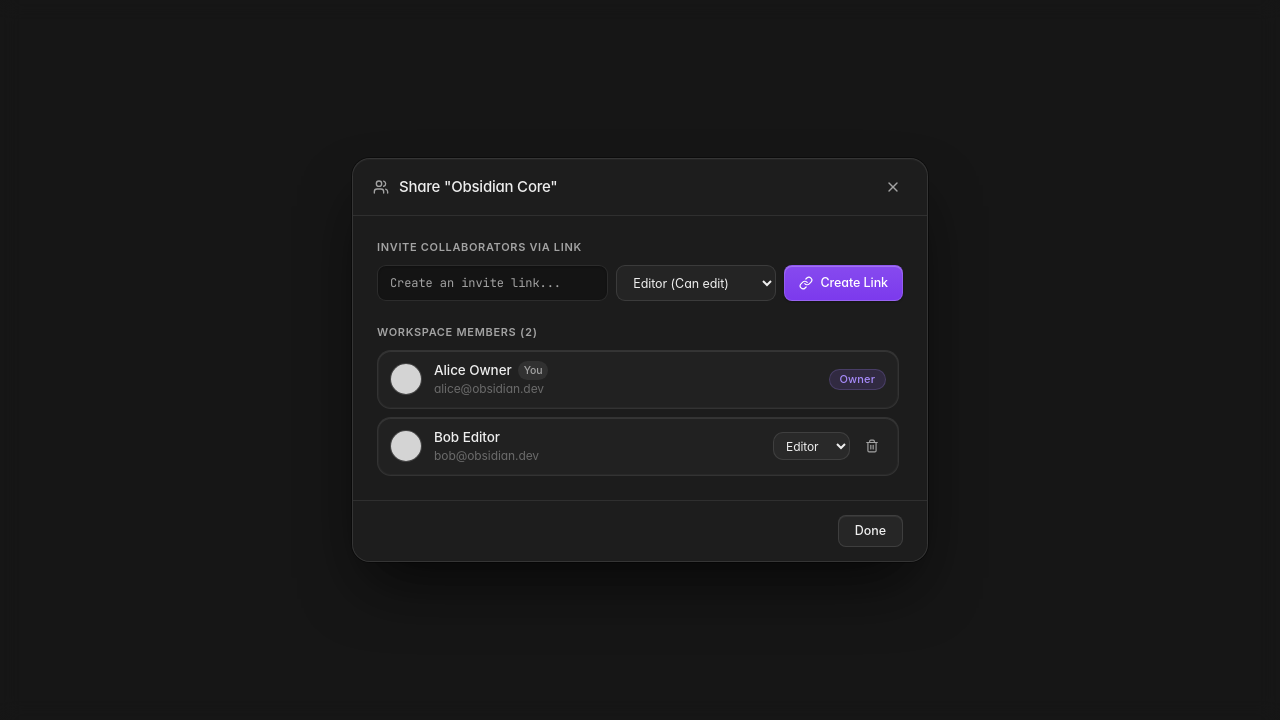
Test case: Workspace Modals & Full WorkspacePage Feature/Button Interactions › ShareModal All Buttons & Member Actions › creates invite link, regenerates on role change, copies to clipboard, updates member role, removes member, and supports non-owner Leave
The width and height of the screenshot is (1280, 720).
Later steps or results of the test are not shown.
Click the button "Create Link": [844, 283] box [784, 265, 903, 301]
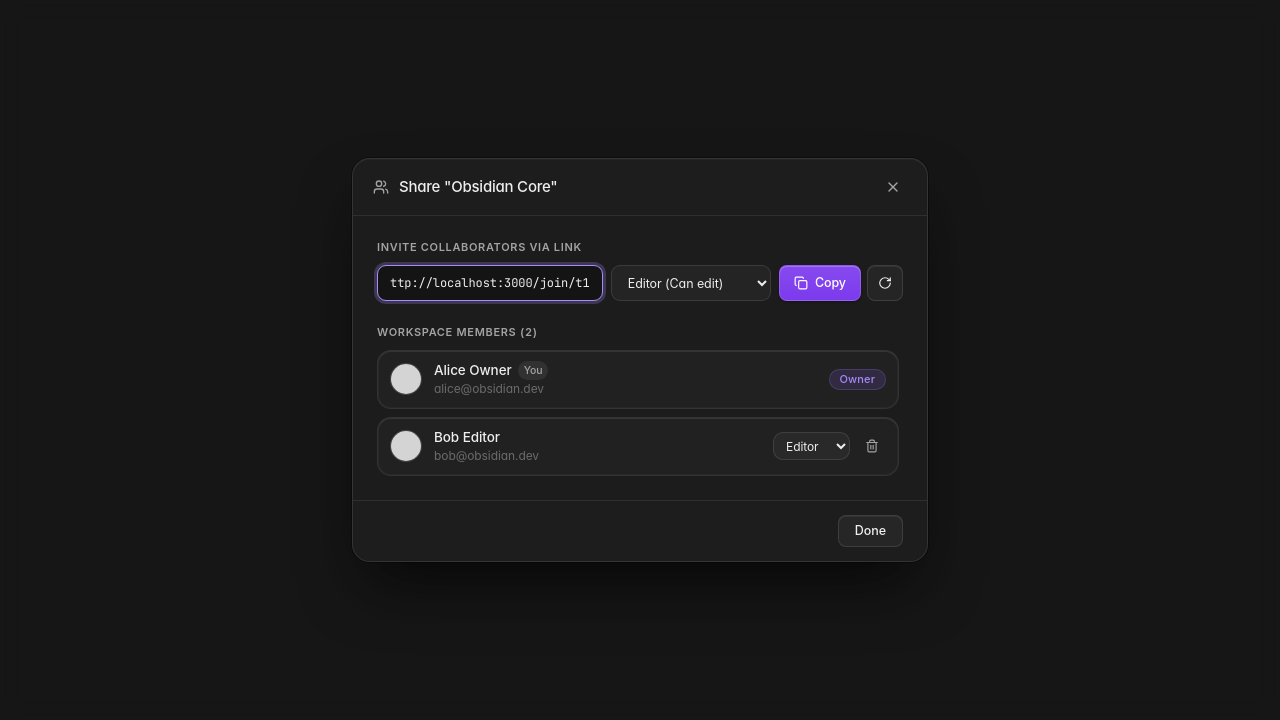
Result: the field named "Generated invitation URL" holds "http://localhost:3000/join/t1" at [377, 265, 603, 301]
Click the button "Copy": [820, 283] box [779, 265, 861, 301]
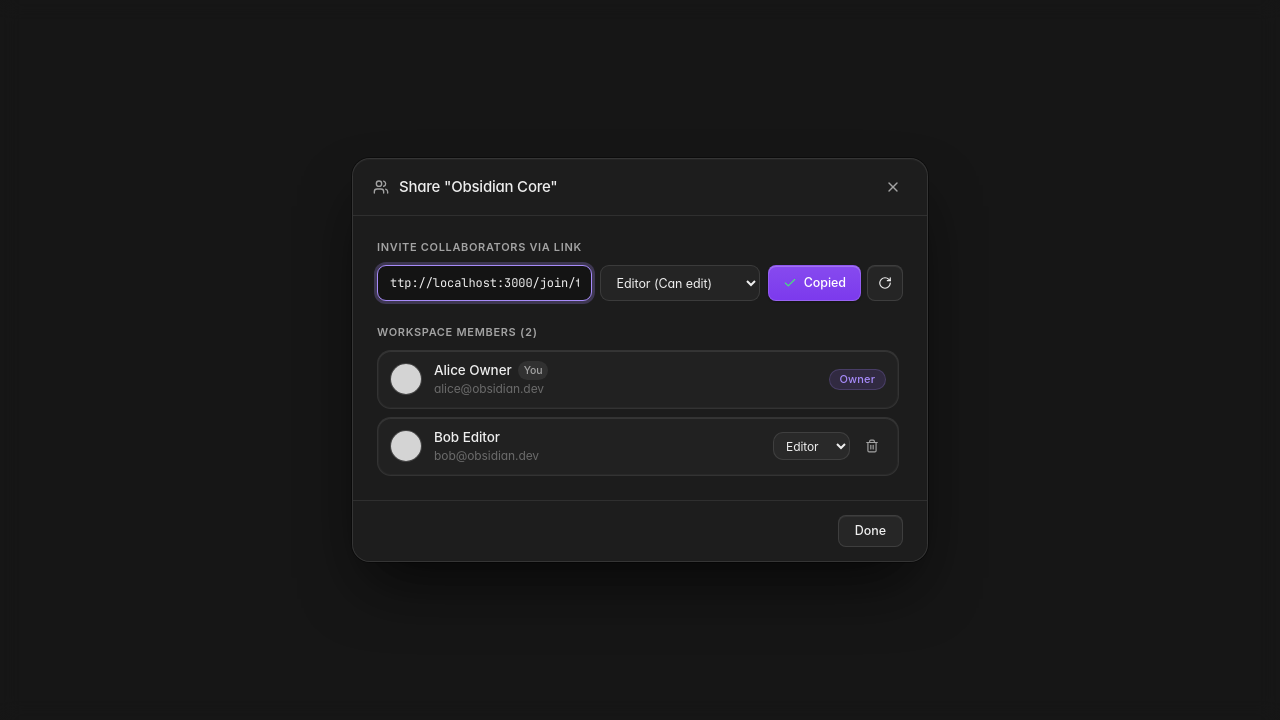
Result: the button "Copied" is shown at [768, 265, 861, 301]
Select "Viewer (Read-only)" in the dropdown named "Invite collaborator role": [680, 283] box [600, 265, 760, 301]
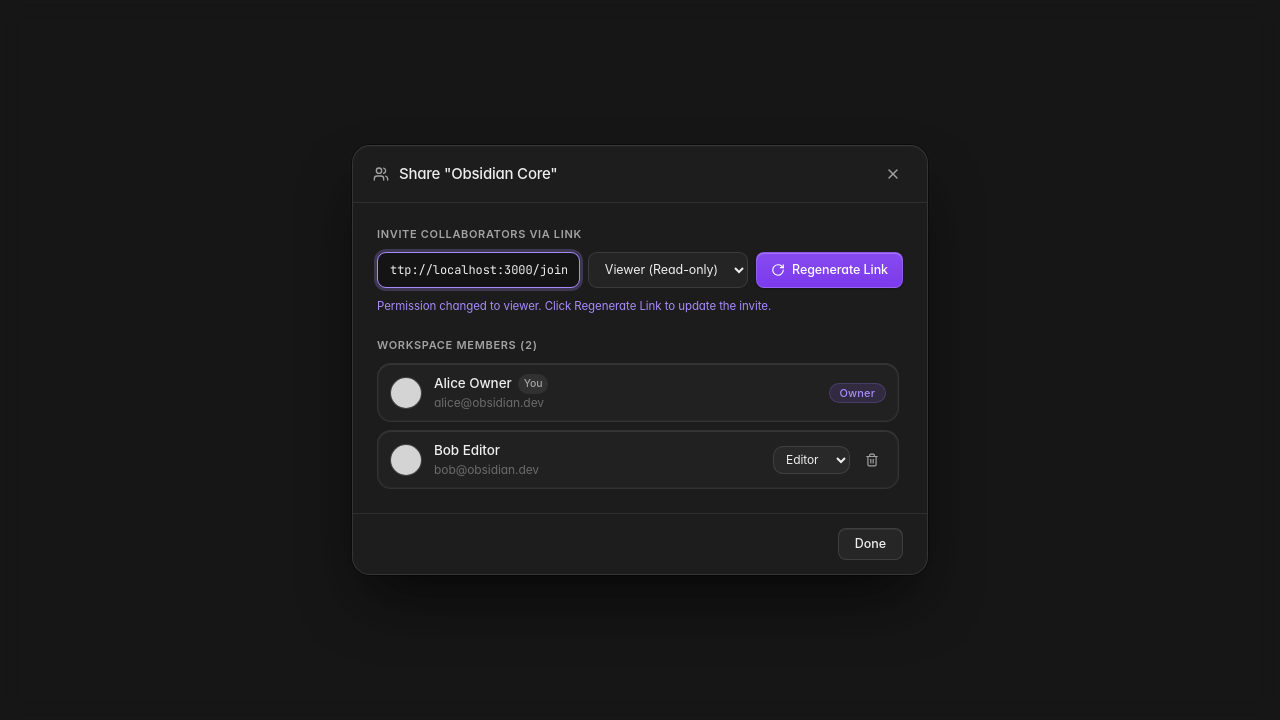
Result: the text "Permission changed to viewer" is shown at [377, 299, 771, 313]
Click the button "Regenerate Link": [829, 270] box [756, 252, 903, 288]
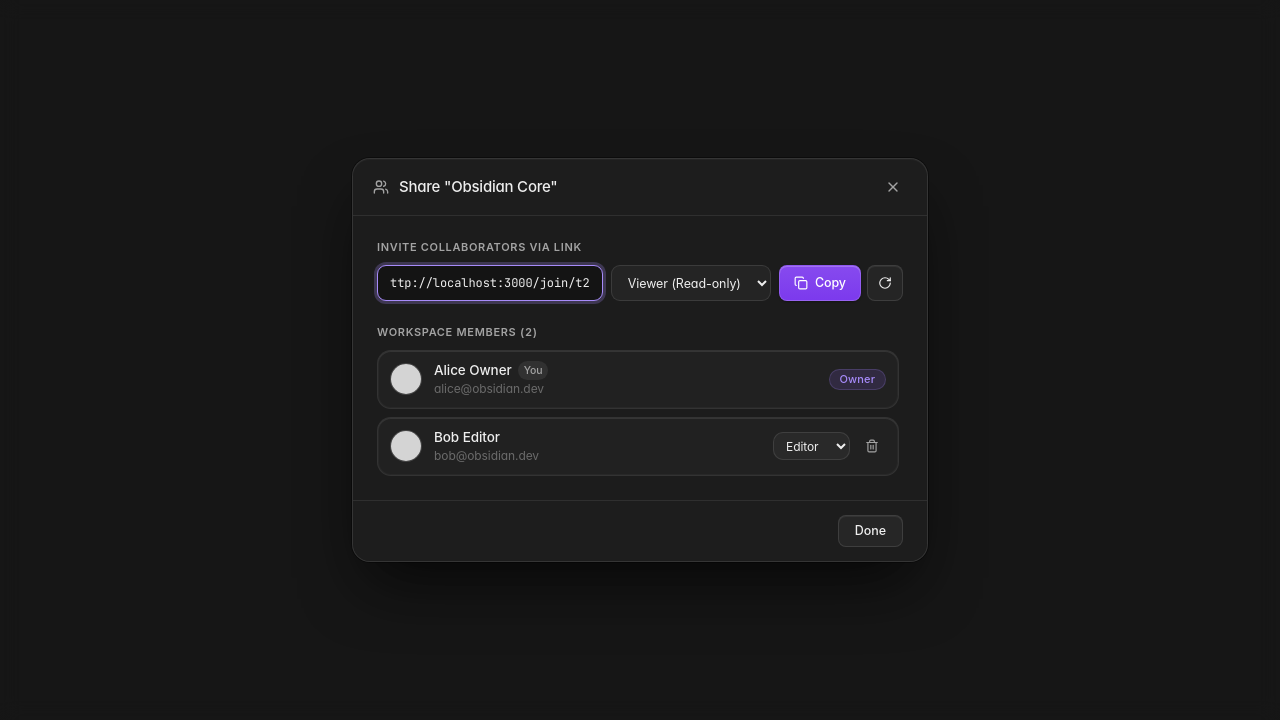
Select "Viewer" in the dropdown named "Role for member Bob Editor": [812, 446] box [773, 432, 850, 460]
Click the button named "Remove member Bob Editor": [872, 446] box [858, 432, 886, 460]
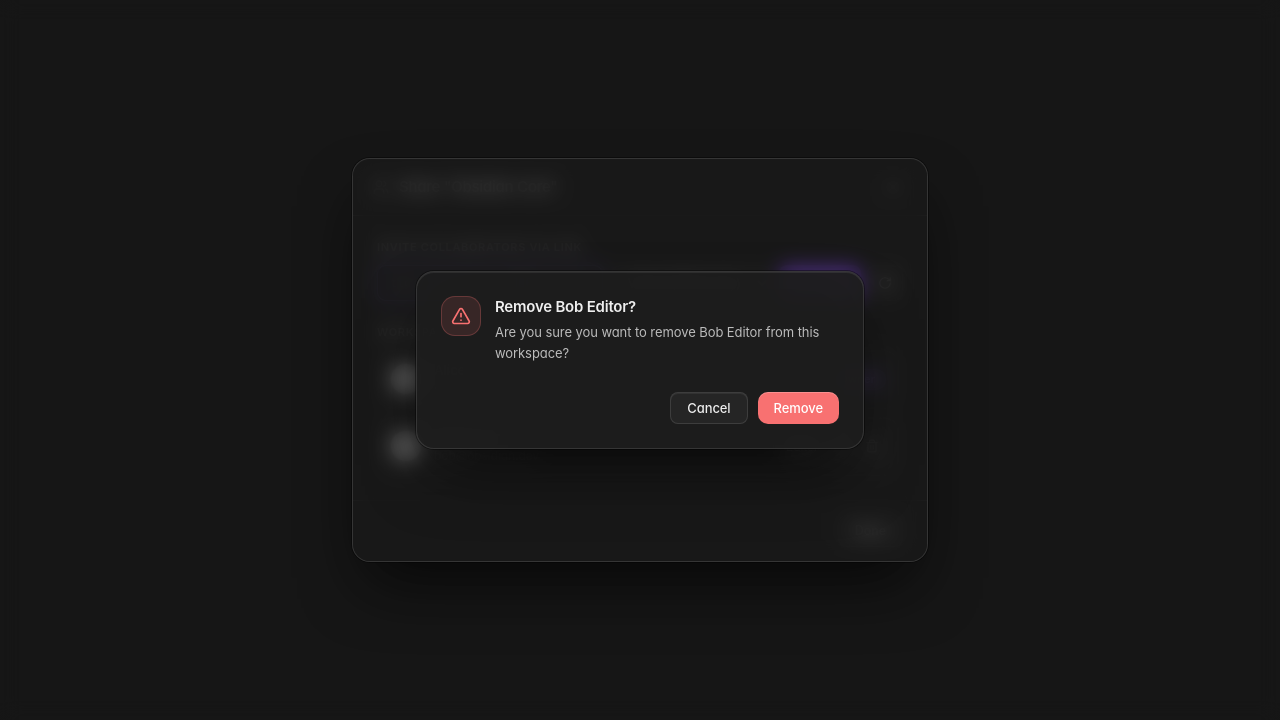
Result: the heading "Remove Bob Editor?" is shown at [495, 297, 636, 316]
